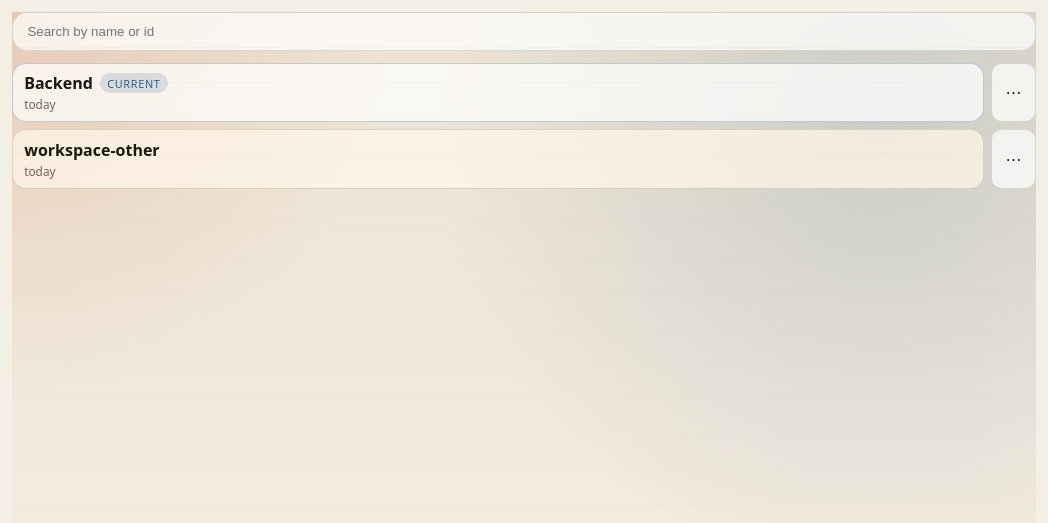
Scenario: workspace labels › keeps the draft and reports save errors; Escape cancels without navigating
Click the button named "Actions for workspace Backend". click: (1013, 92)
box: [991,63,1036,122]
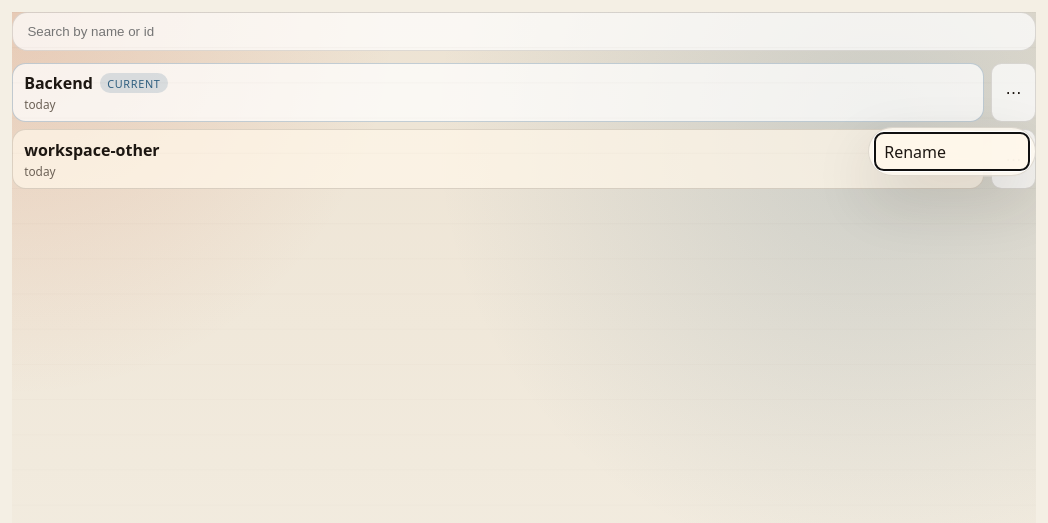
Click the menu item "Rename". click: (952, 152)
box: [875,133,1029,170]
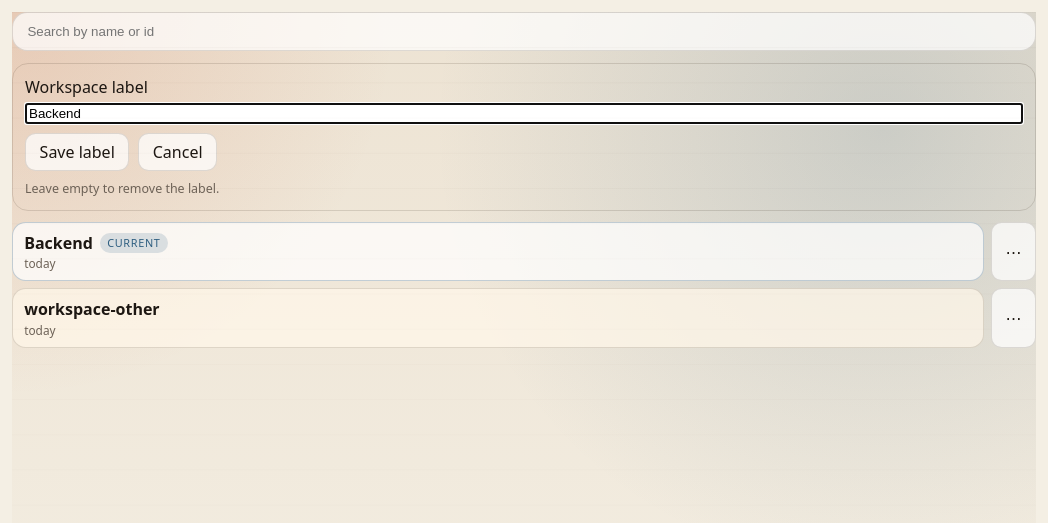
Replace the text in the field with "Planning". click: (524, 114)
box: [25,103,1023,124]
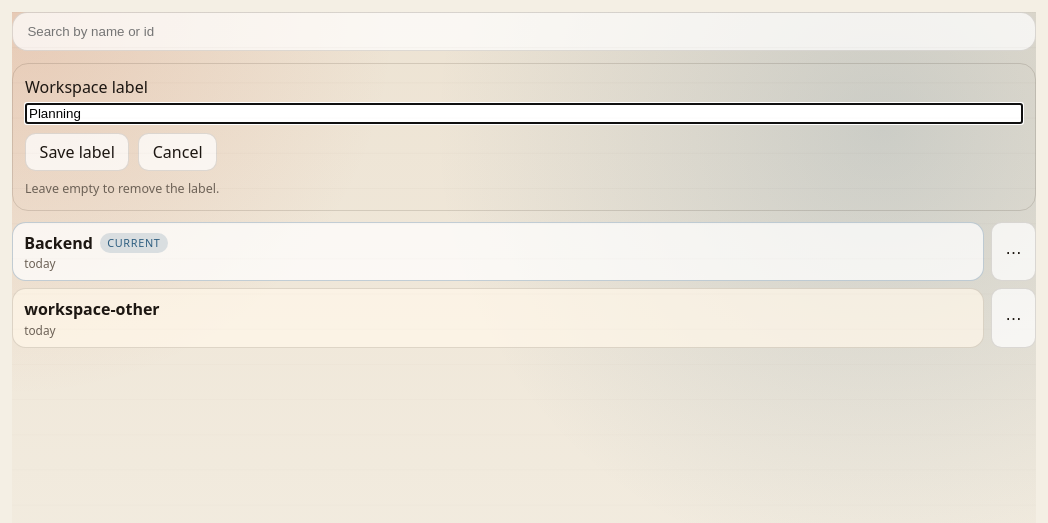
Click the button "Save label". click: (77, 152)
box: [25,133,129,171]
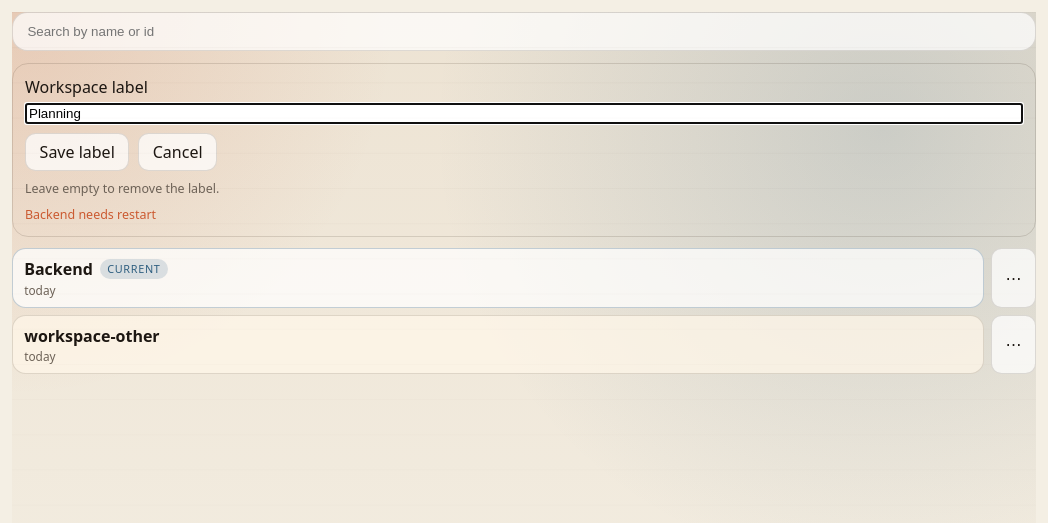
Check: the message reads "Backend needs restart", box [25,206,156,223]
Press Escape in the field, box [25,103,1023,124]
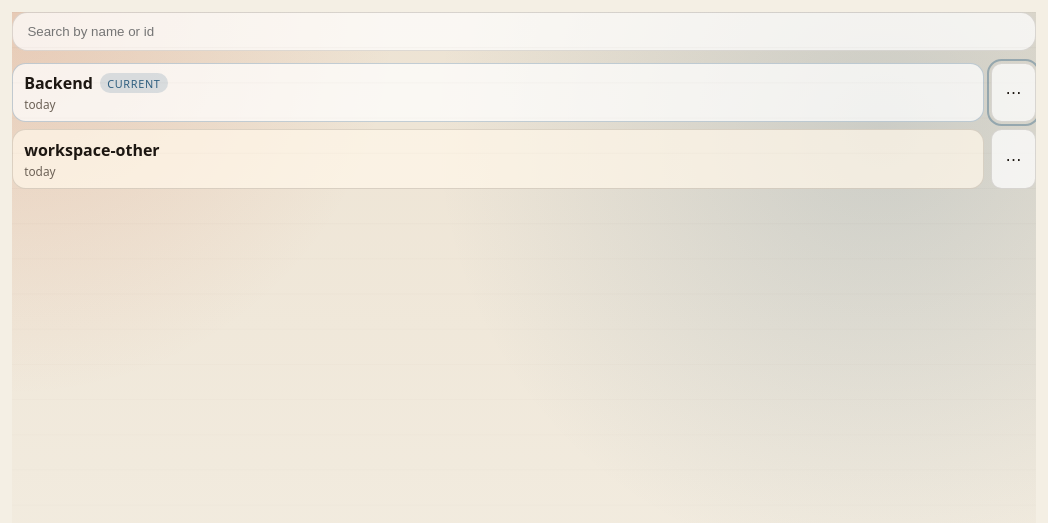
Check: the field is gone
